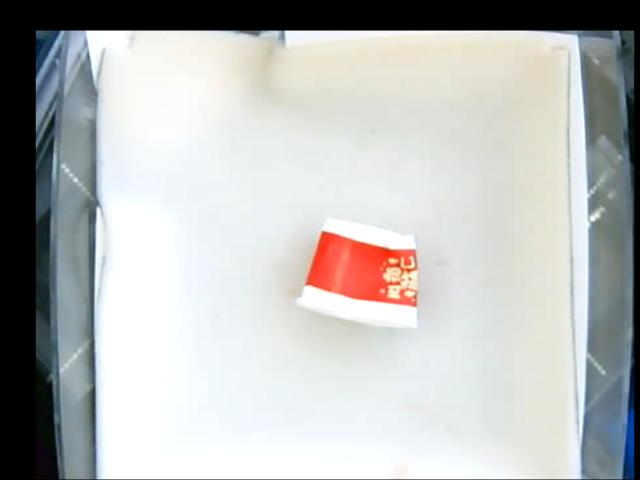Cup: (293, 219, 422, 333)
